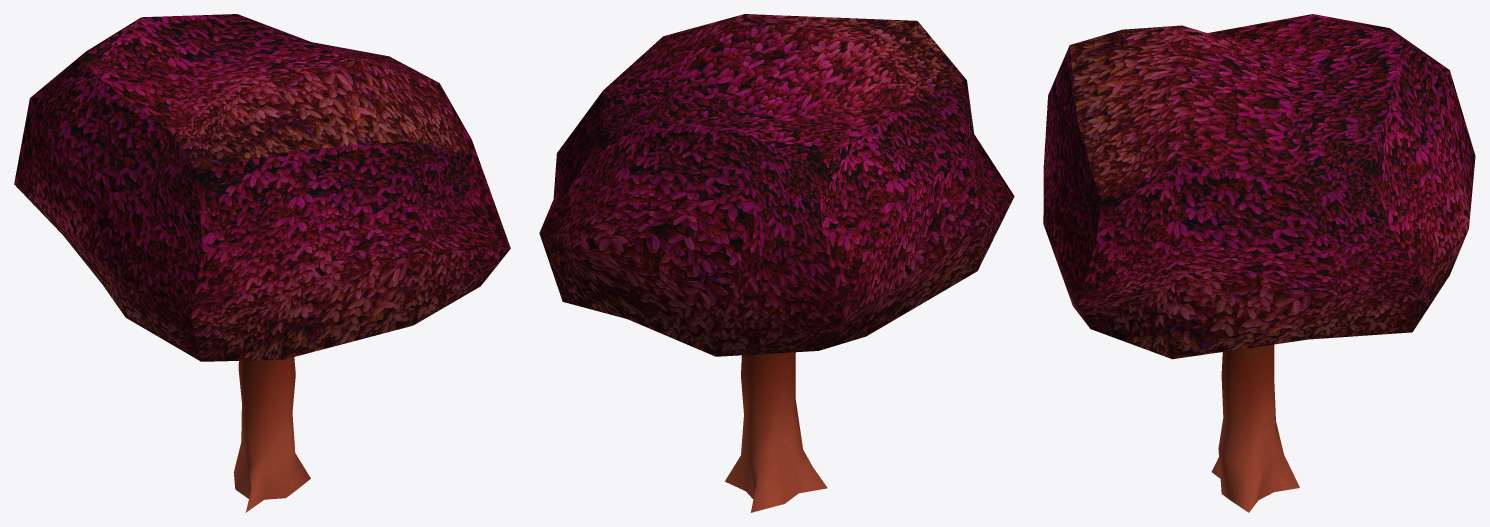
Rendered from Arbol.FBX.
The picture shows the model from 3 angles, left to right: view 1: azimuth 30°, elevation 25°; view 2: azimuth 150°, elevation 25°; view 3: azimuth 270°, elevation 25°; orthographic projection.
Visible parts, largest first — view 1: Hojas, Tronco; view 2: Hojas, Tronco; view 3: Hojas, Tronco.
Part boxes in pixels (<box>): Hojas: <box>14,14,510,361</box>; Tronco: <box>233,357,310,512</box>; Hojas: <box>539,14,1014,356</box>; Tronco: <box>725,352,827,512</box>; Hojas: <box>1043,14,1475,359</box>; Tronco: <box>1211,344,1299,512</box>.
Bounding box in the file's own units: 103 × 120 × 108.
Materials: 2 (2 with a texture image).
